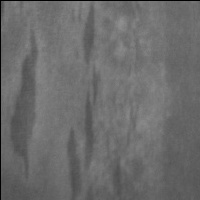inclusion: (64, 2, 103, 200), (6, 25, 41, 185), (107, 154, 127, 200)
